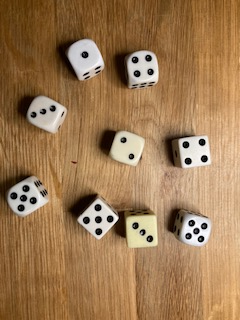five: (76, 194, 120, 240), (5, 174, 50, 217), (171, 208, 213, 248)
four: (123, 49, 160, 90), (171, 134, 213, 169)
one: (65, 38, 106, 82)
three: (25, 95, 68, 136), (122, 208, 160, 250)
two: (106, 130, 146, 170)
